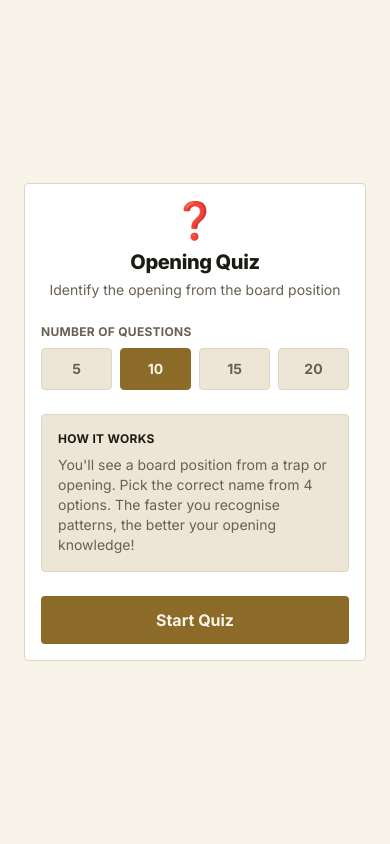
Scenario: OpeningQuizPage › Start Quiz with size 5 shows exactly 5 questions worth of progress
Click the button "5" at (76, 369), box [41,348,112,390]
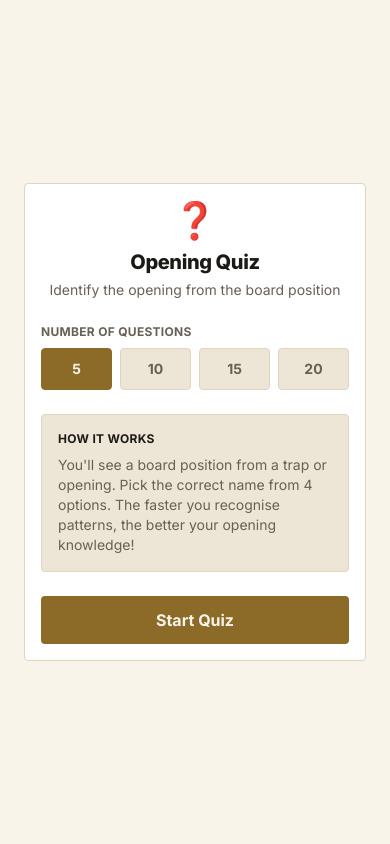
Click the button "Start Quiz" at (195, 620), box [41,596,349,644]
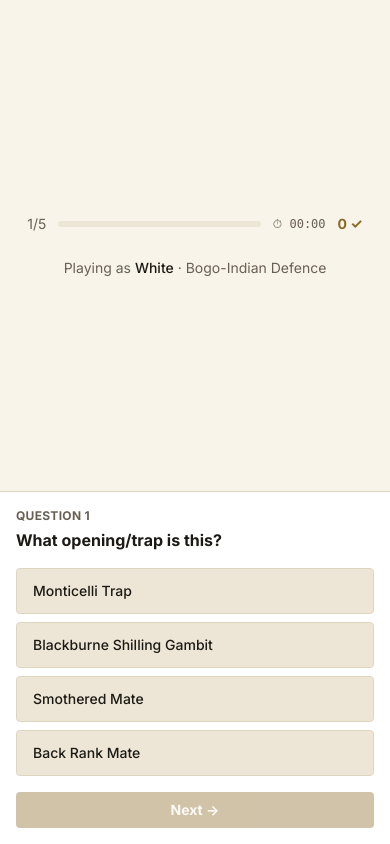
Check: the text "1/5" is shown, box [27,214,46,234]
Check: the text "What opening/trap is this?" is shown, box [16,530,222,550]
